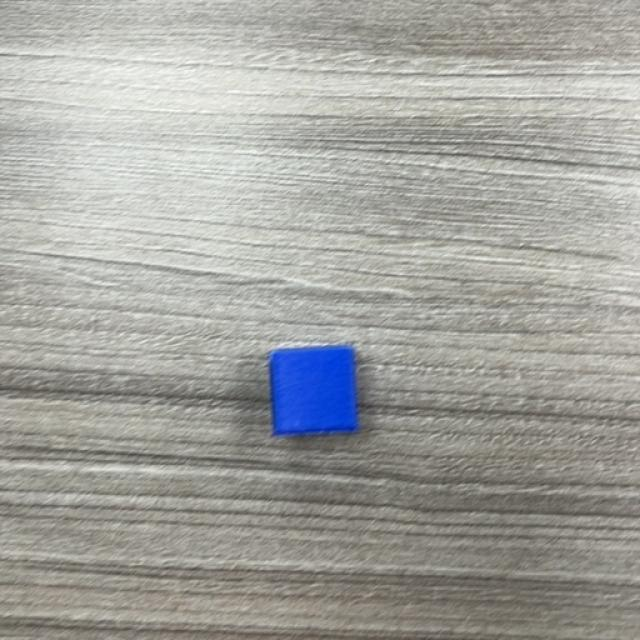Azul: (269, 346, 360, 439)
